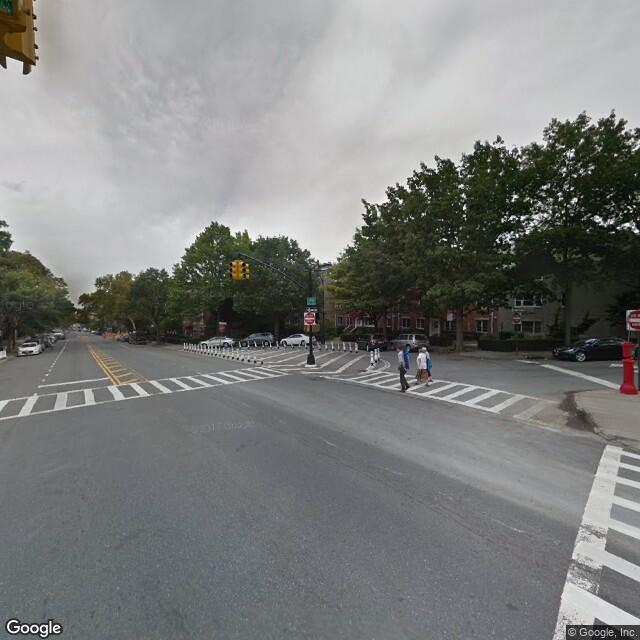litter: (557, 396, 598, 434)
